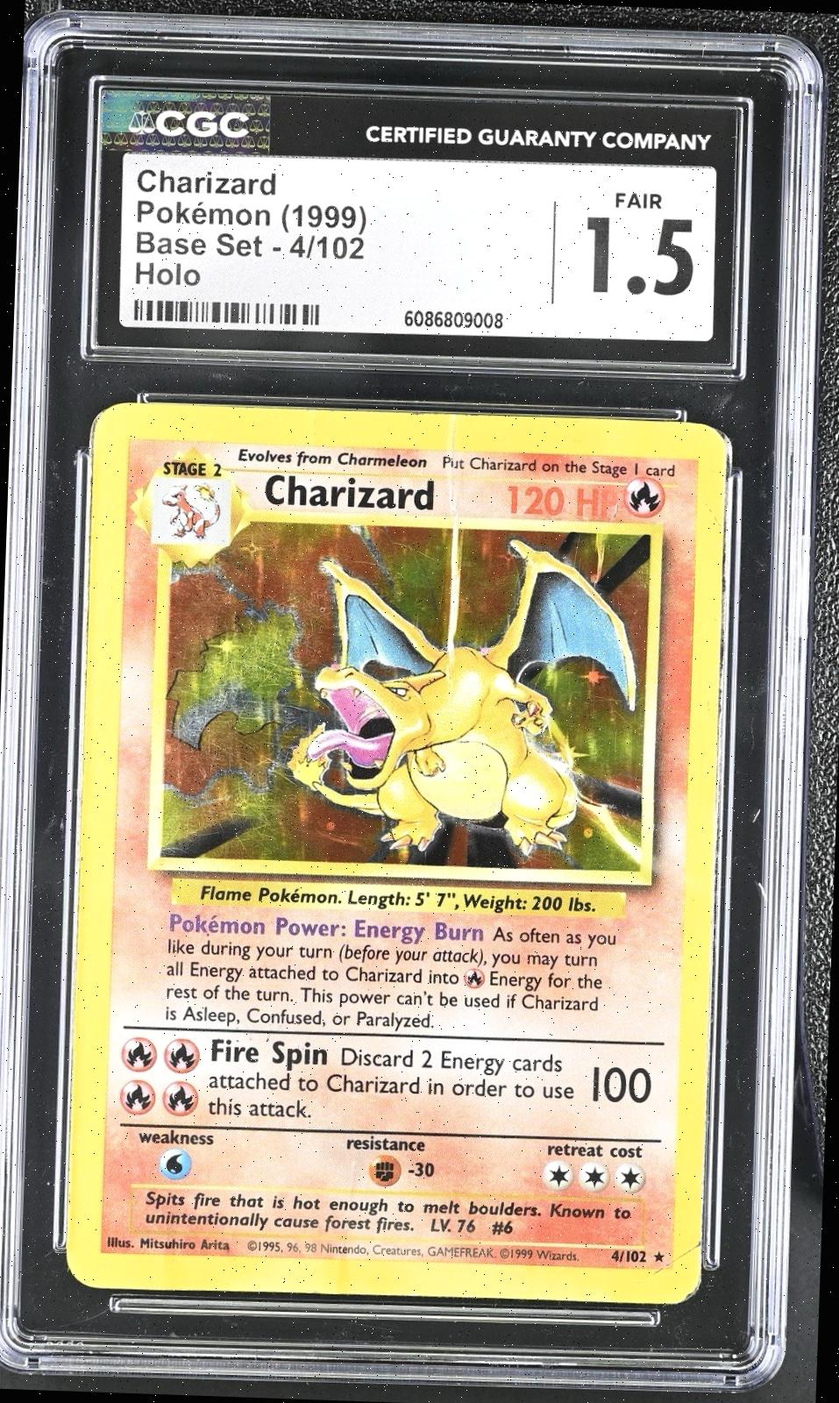card-2UtV: (64, 401, 727, 1306)
